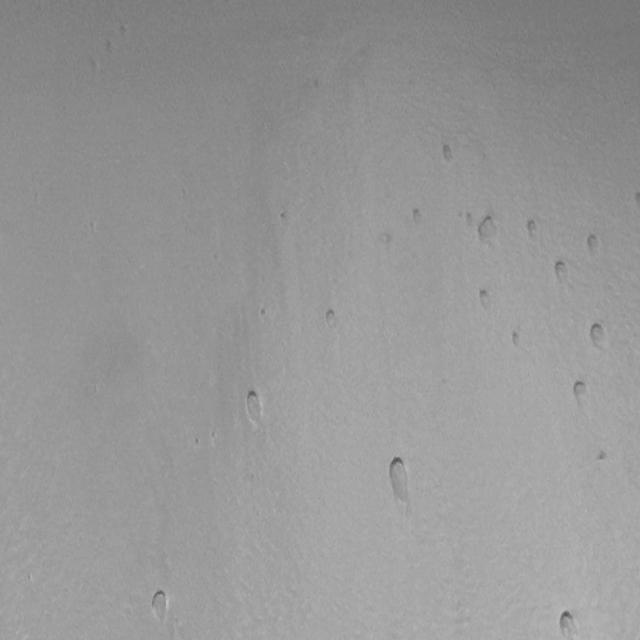pin holes: (384, 452, 415, 512), (240, 387, 266, 427), (475, 212, 502, 248), (556, 607, 584, 640), (147, 588, 171, 624), (587, 319, 611, 352), (568, 380, 591, 411), (584, 232, 604, 260), (320, 306, 341, 332), (552, 258, 572, 285), (438, 142, 458, 168), (475, 286, 494, 312), (523, 216, 543, 240), (379, 230, 398, 252), (254, 302, 273, 324), (409, 205, 427, 228), (462, 209, 479, 232), (509, 329, 524, 350), (276, 210, 292, 229), (119, 21, 133, 41), (594, 448, 611, 464), (102, 39, 115, 58), (88, 57, 101, 76), (209, 431, 220, 447), (193, 436, 204, 451), (631, 191, 639, 209)
